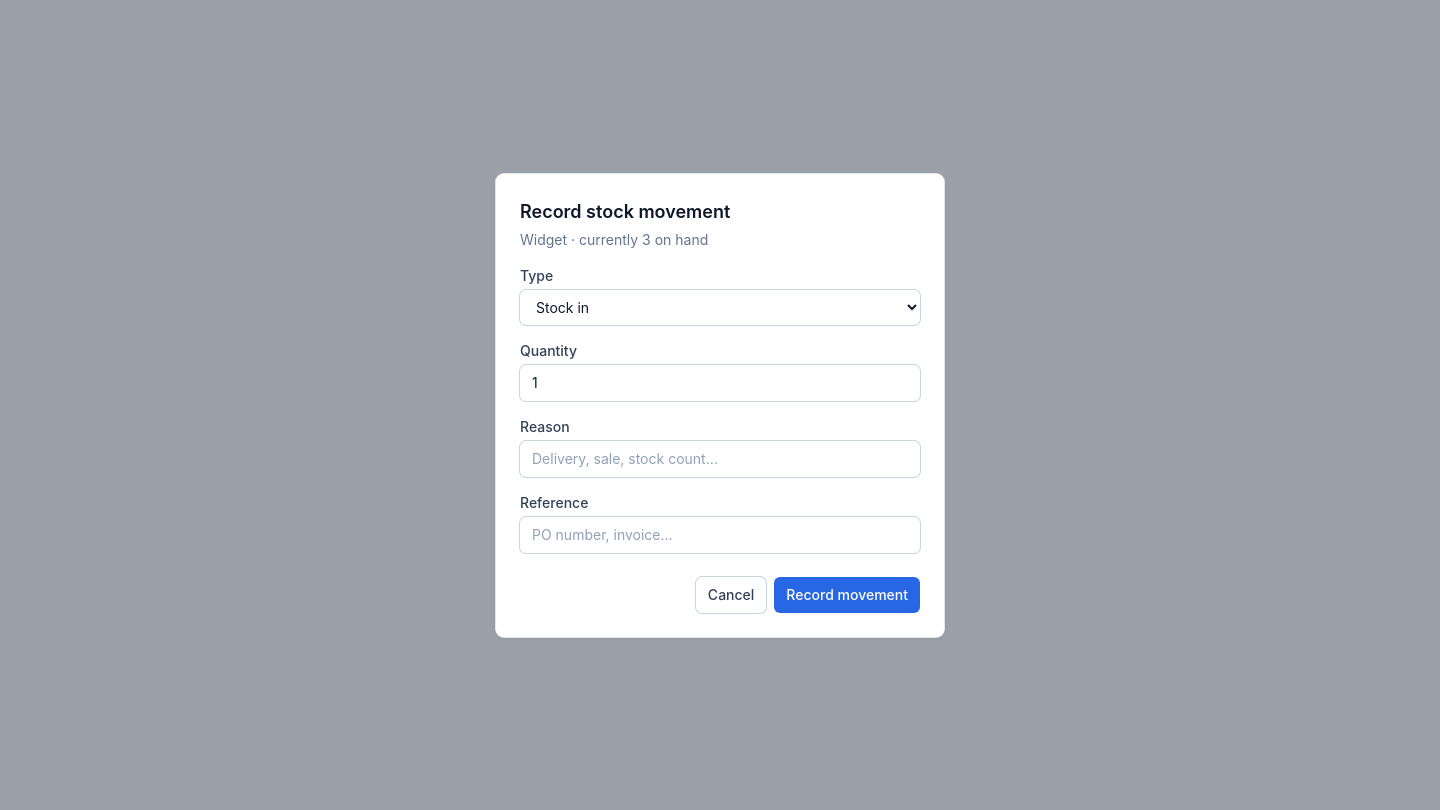
StockMovementDialog › shows the backend message when a movement would oversell
Select "Stock out" in the dropdown labelled "Type" at (720, 307), box [520,290,920,324]
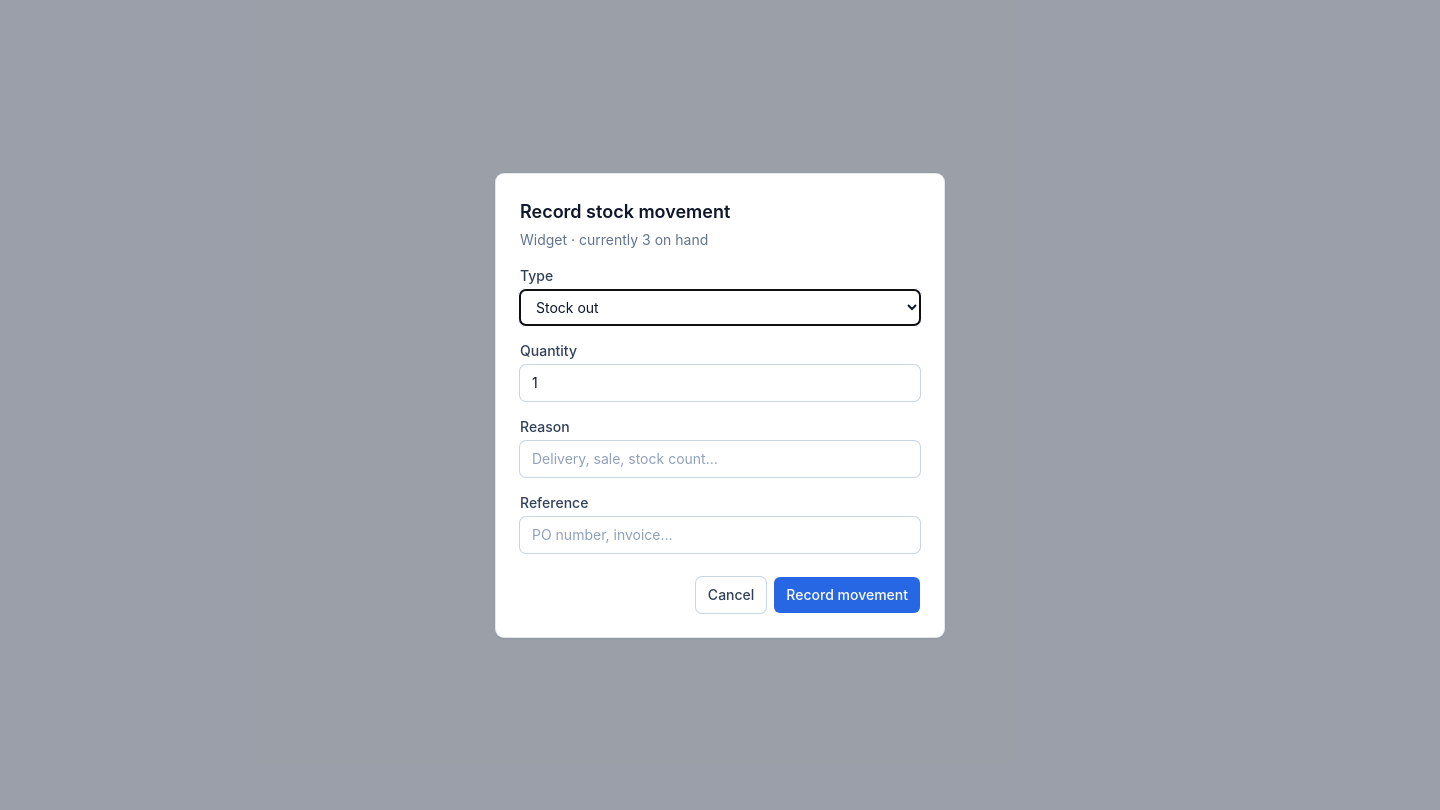
Replace the text in the number field labelled "Quantity" with "9" at (720, 382), box [520,364,920,400]
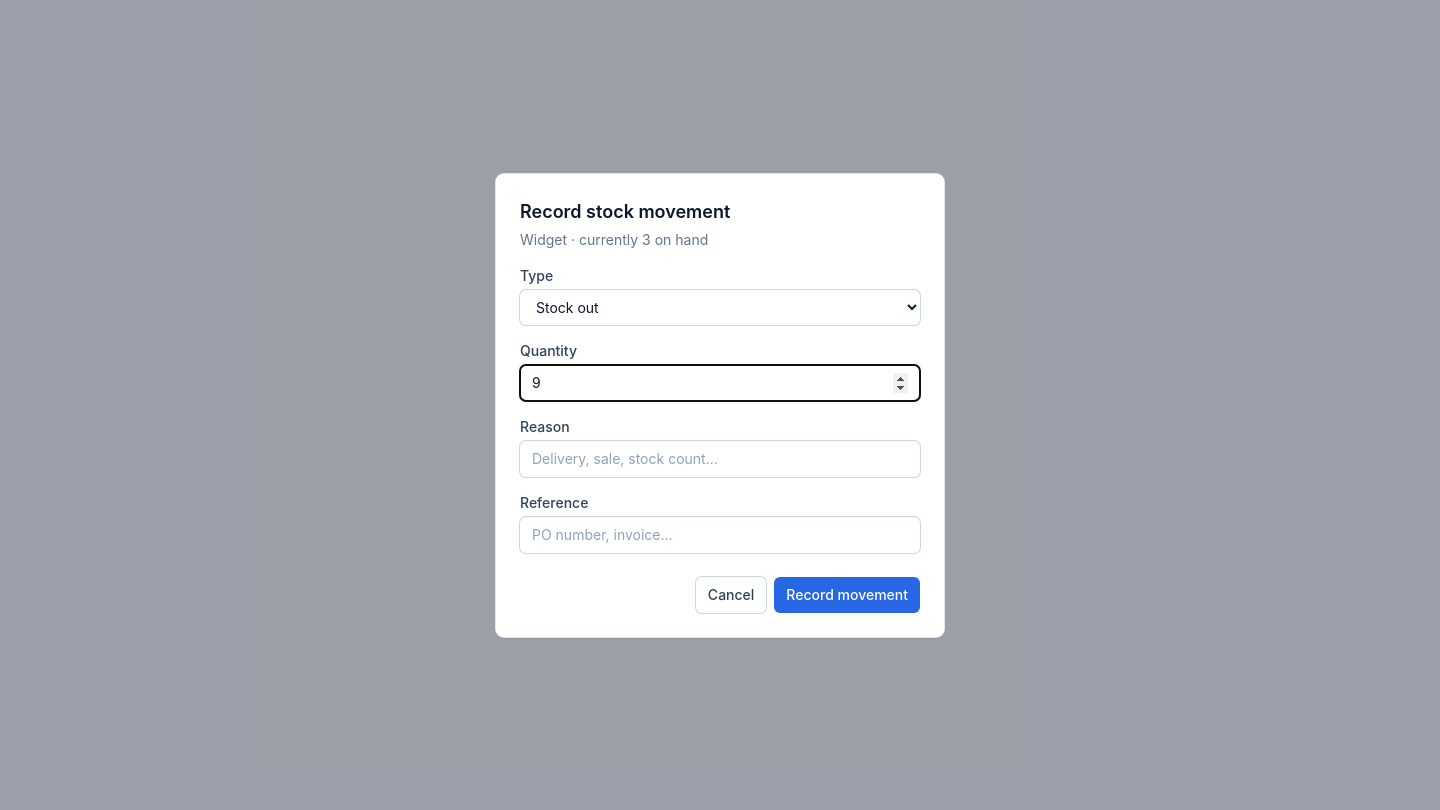
Click the button "Record movement" at (847, 594), box [774,576,920,612]
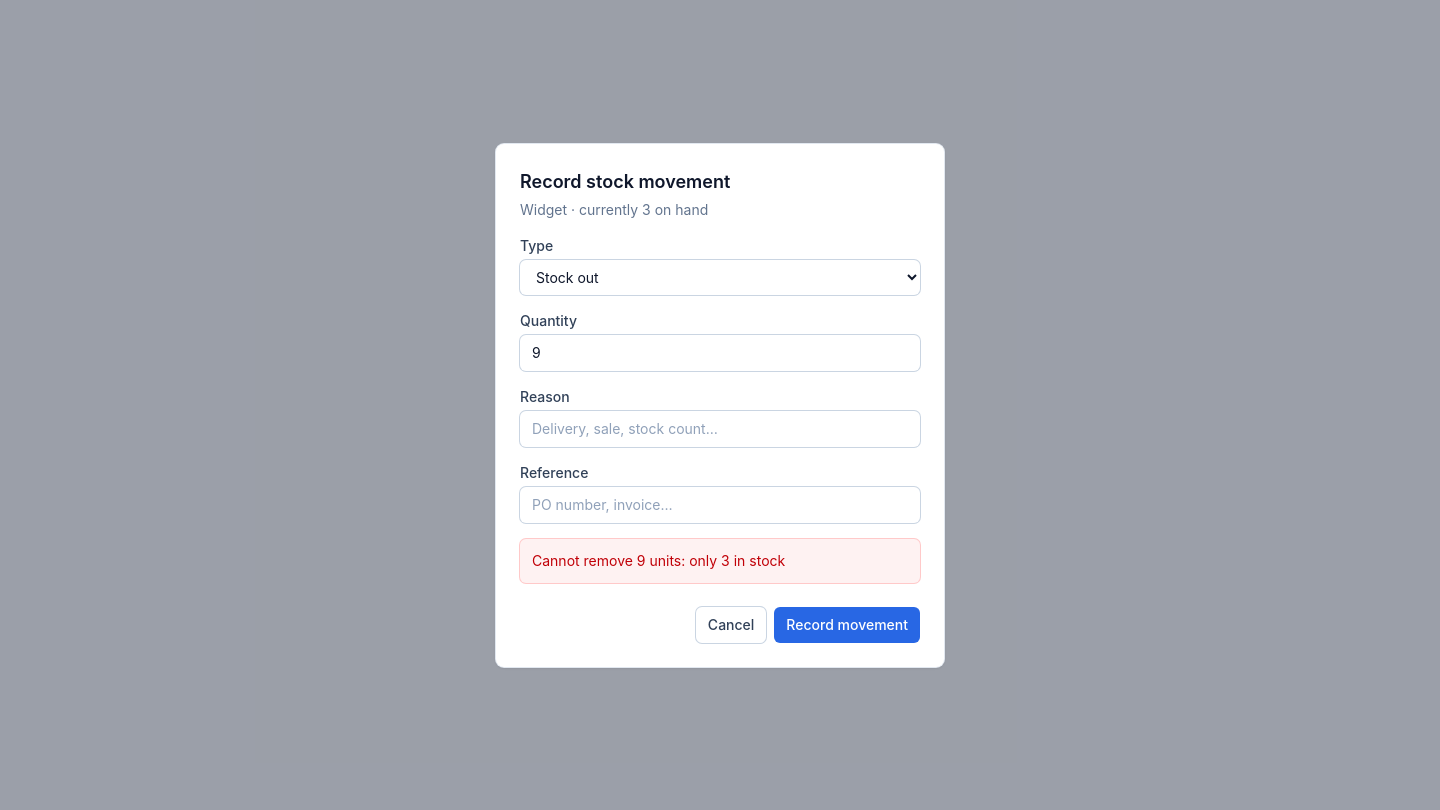
Expected: the message shows "only 3 in stock", [532,552,785,568]
